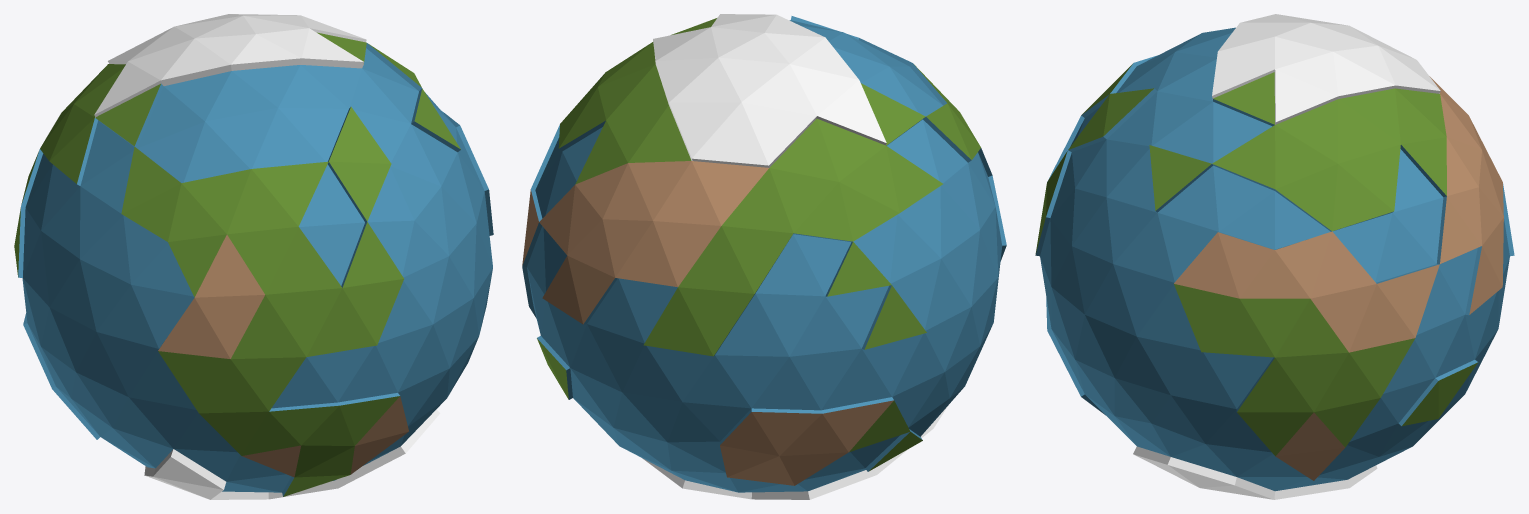
Rendered from Earth.fbx.
The picture shows the model from 3 angles, left to right: view 1: azimuth 30°, elevation 25°; view 2: azimuth 150°, elevation 25°; view 3: azimuth 270°, elevation 25°; orthographic projection.
Visible parts, largest first — view 1: Cube; view 2: Cube; view 3: Cube.
Part boxes in pixels (<box>): Cube: <box>14,14,493,499</box>; Cube: <box>522,14,1006,499</box>; Cube: <box>1035,14,1514,499</box>.
Size of the model in its own units: 2020 by 2069 by 2039.
